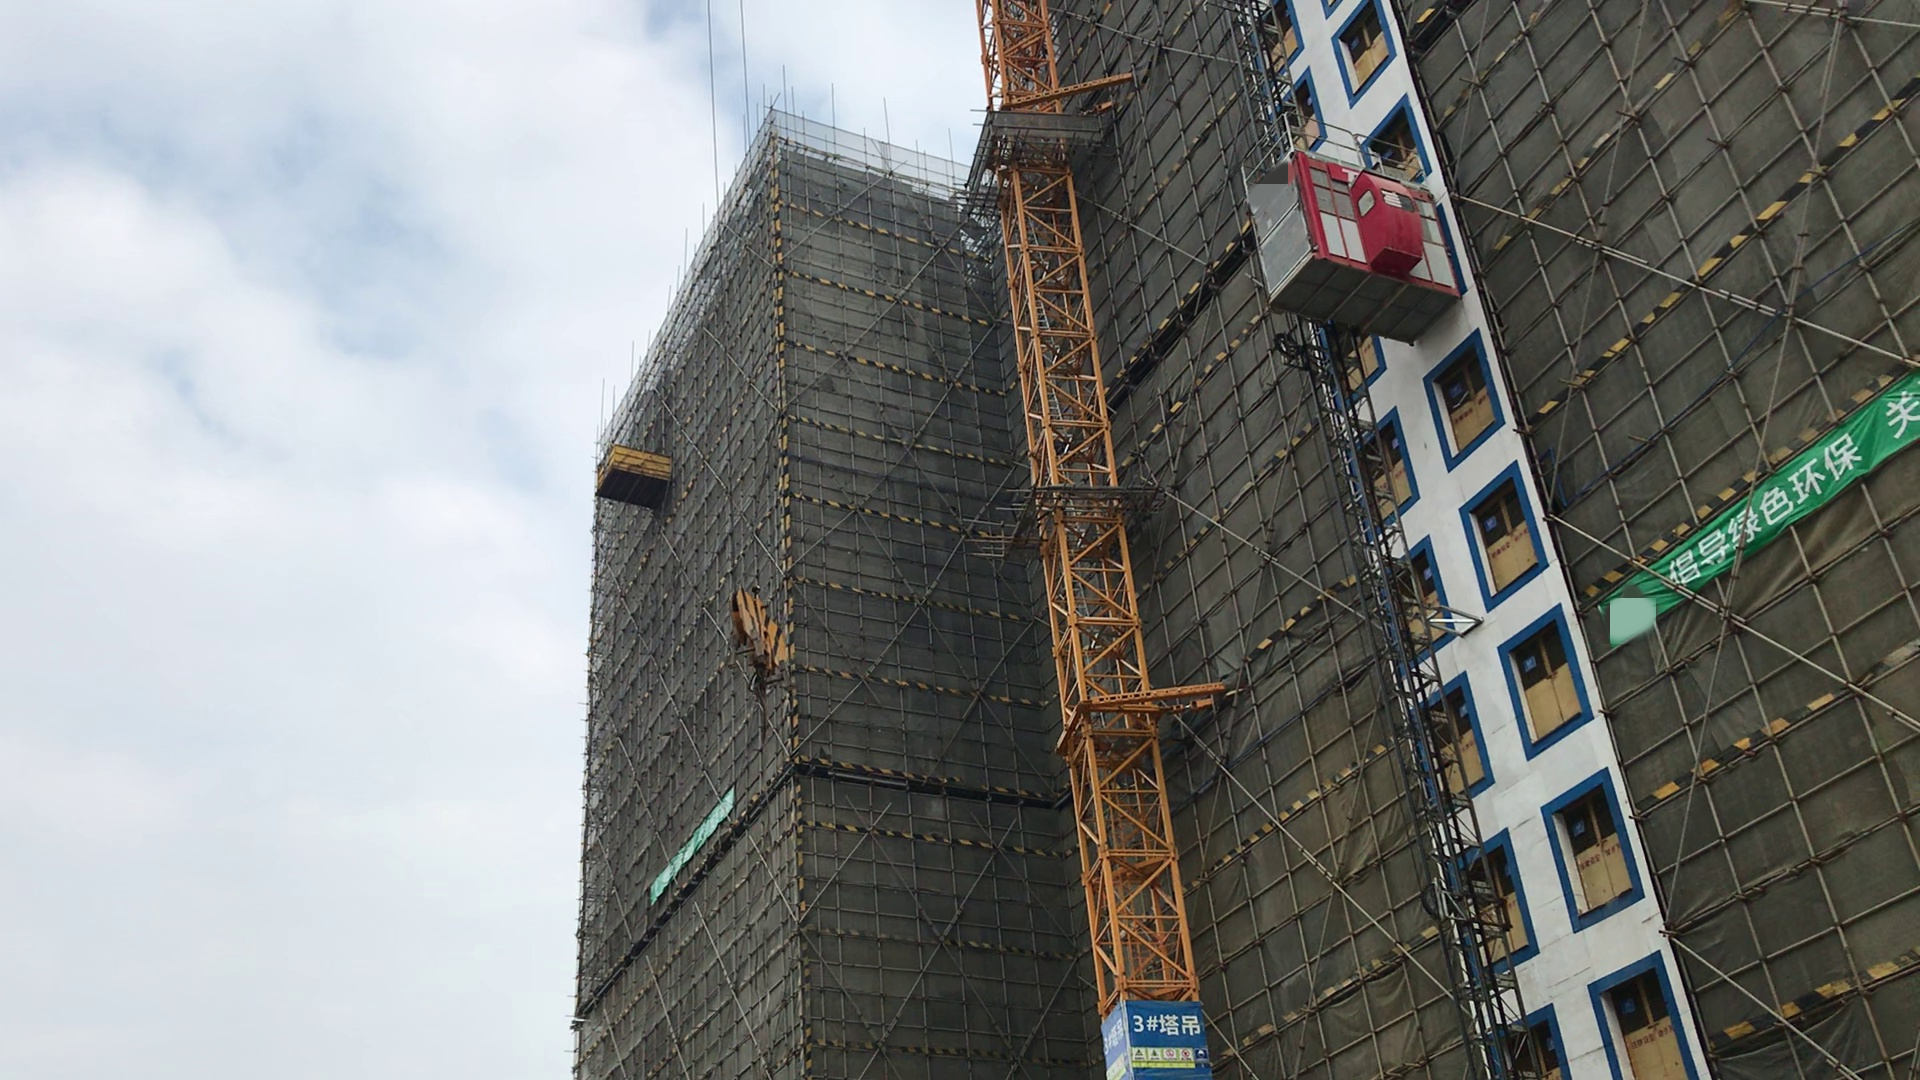fence: (1659, 385, 1920, 593), (641, 782, 744, 905), (1091, 1004, 1207, 1077)
hook: (713, 580, 793, 694)
